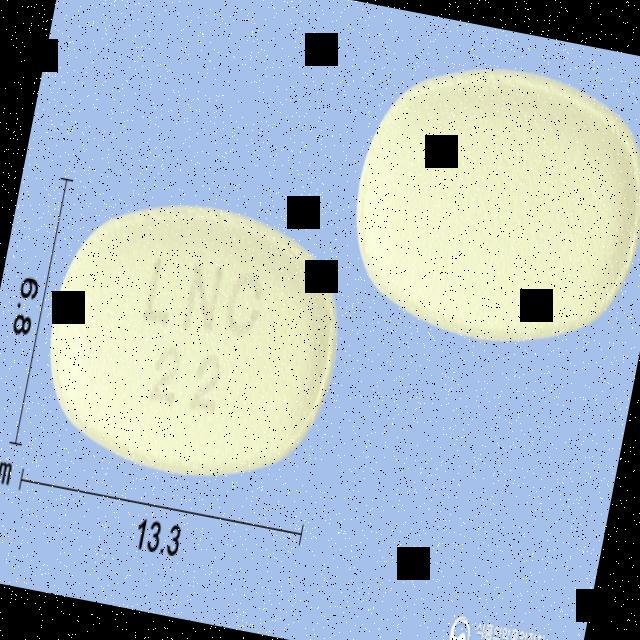Rithcinn Tab: (31, 182, 360, 499)
